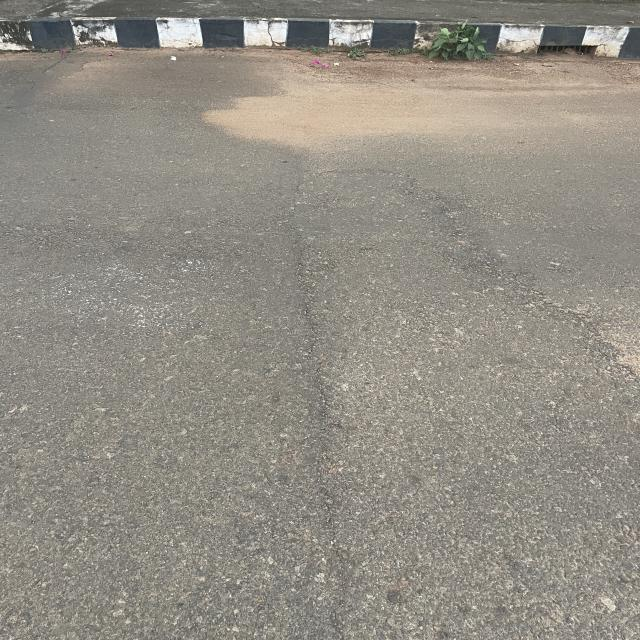D01: (265, 251, 380, 640), (436, 242, 640, 407)
